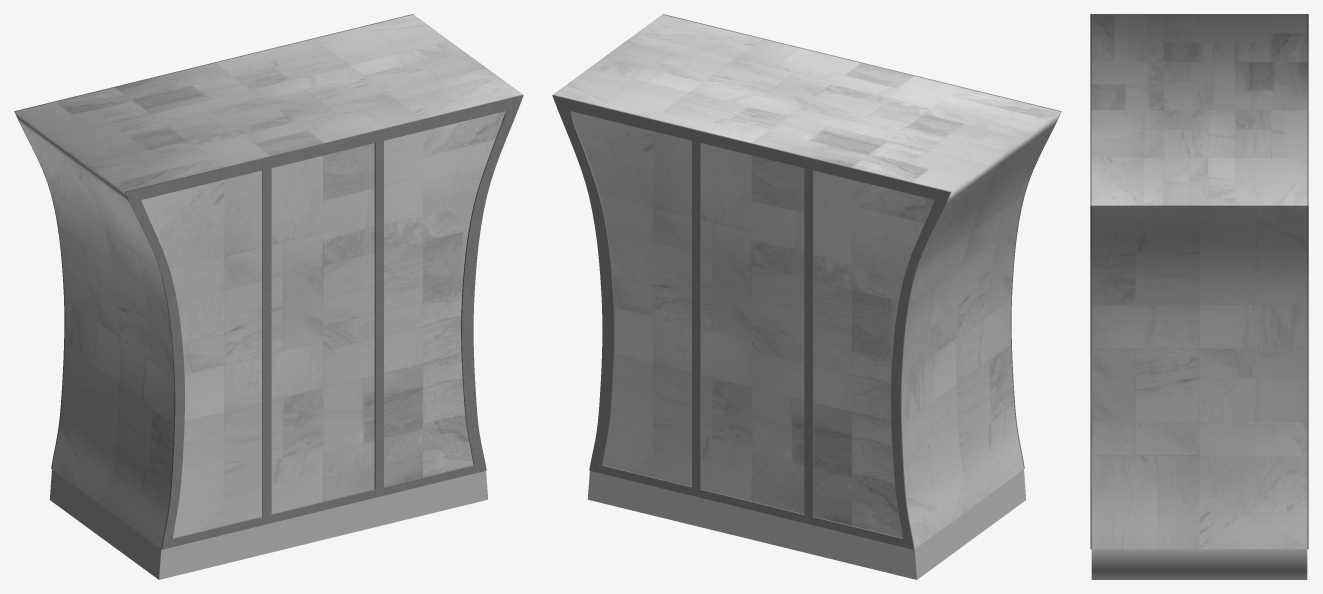
Rendered from Subway06Column01_One.FBX.
The picture shows the model from 3 angles, left to right: view 1: azimuth 30°, elevation 25°; view 2: azimuth 150°, elevation 25°; view 3: azimuth 270°, elevation 25°; orthographic projection.
Parts seen in each view (by area): view 1: Subway06Column01a, Subway06Column01c, Subway06Column01b; view 2: Subway06Column01a, Subway06Column01c, Subway06Column01b; view 3: Subway06Column01a, Subway06Column01b, Subway06Column01c.
Boxes of the visible parts, x1,y1,x2,y2 form: Subway06Column01a: (15,14,522,548); Subway06Column01c: (14,14,523,549); Subway06Column01b: (49,469,488,579); Subway06Column01a: (553,14,1060,548); Subway06Column01c: (552,14,1061,549); Subway06Column01b: (587,469,1026,579); Subway06Column01a: (1091,14,1307,549); Subway06Column01b: (1091,549,1307,579); Subway06Column01c: (1090,14,1308,549).
Bounding box in the file's own units: 4213 × 4004 × 2030.
